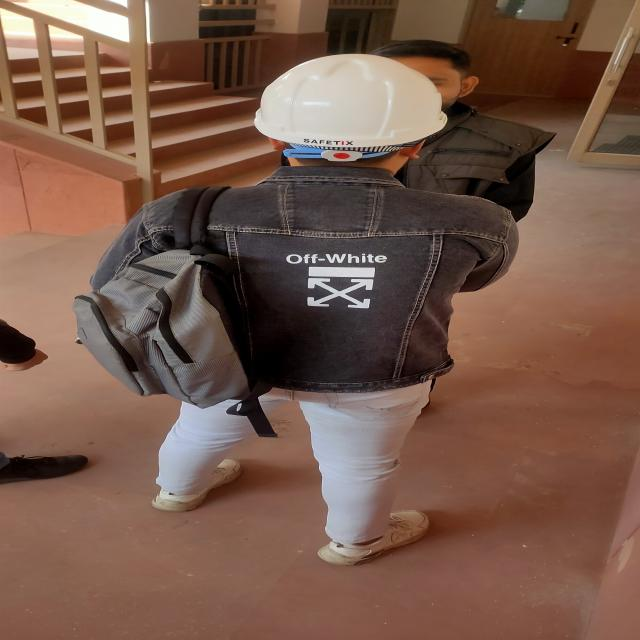no jacket: (87, 52, 525, 566)
